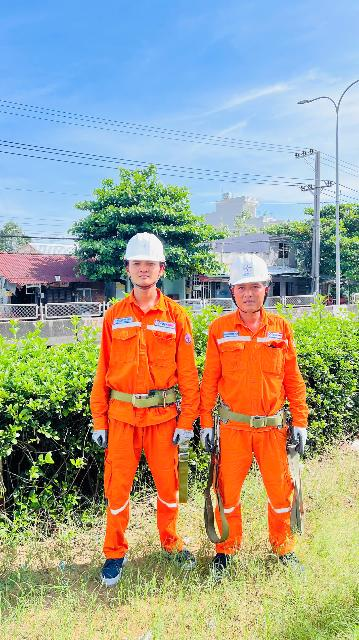gloves: (89, 423, 115, 450), (173, 419, 196, 449), (194, 420, 215, 449), (291, 424, 311, 453)
harness: (215, 395, 295, 436), (93, 376, 184, 412)
helmet: (124, 228, 169, 275), (222, 254, 281, 287)
shoes: (198, 542, 238, 584), (96, 548, 130, 591), (273, 544, 307, 581), (161, 541, 200, 572)
